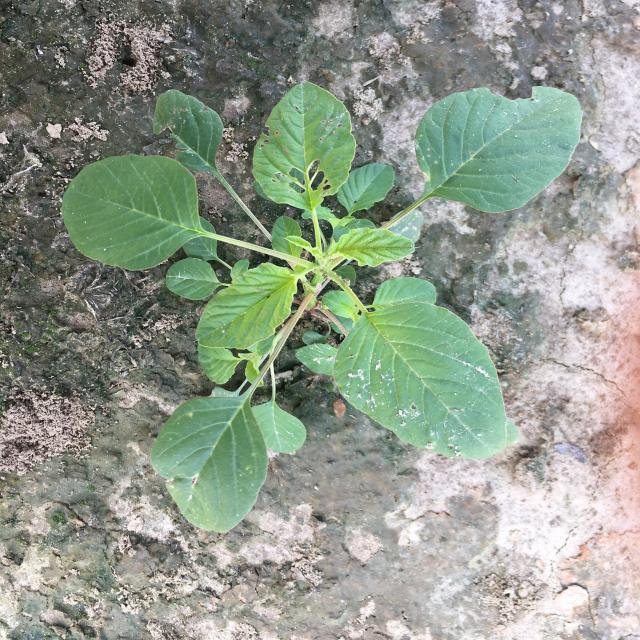PalmerAmaranth: (63, 81, 583, 534)
